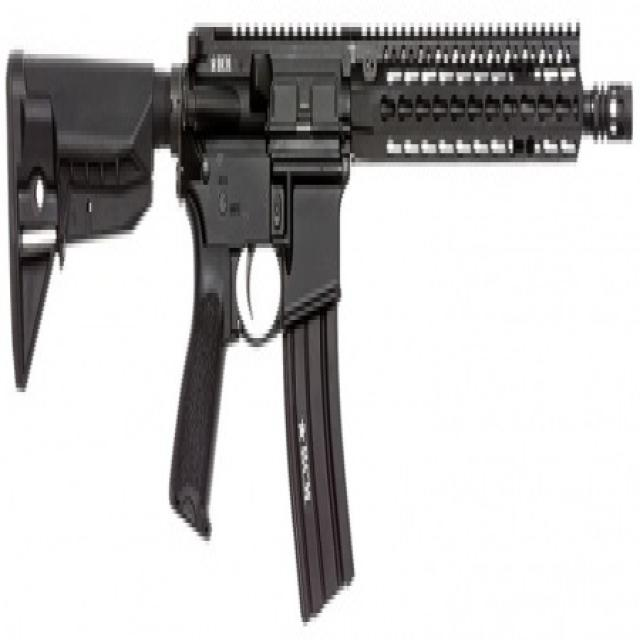rifle: (6, 12, 636, 637)
